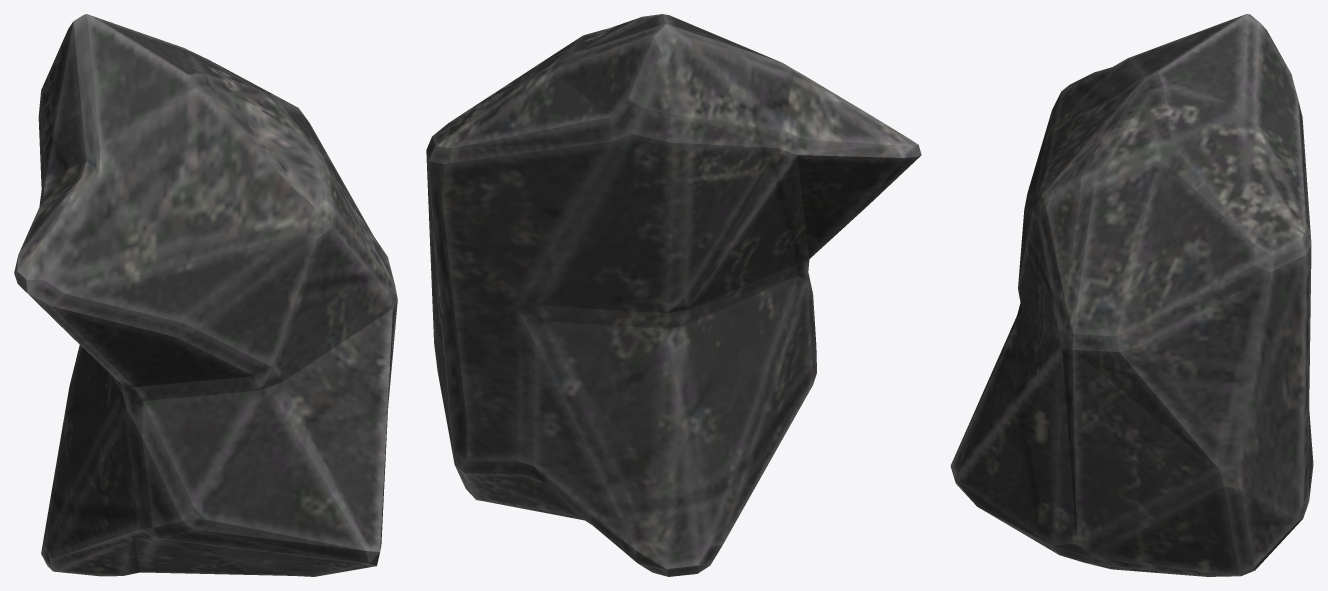
File: CoalCrushed.glb
3 views of the same model, side by side, from view 1: azimuth 30°, elevation 25°; view 2: azimuth 150°, elevation 25°; view 3: azimuth 270°, elevation 25° (orthographic). The views are drawn at different scales.
Parts seen in each view (by area): view 1: CoalCrushed; view 2: CoalCrushed; view 3: CoalCrushed.
Part boxes in pixels (x1,y1,x2,y2): CoalCrushed: (14, 14, 397, 576); CoalCrushed: (426, 14, 921, 576); CoalCrushed: (950, 14, 1313, 576).
Size of the model in its own units: 0.1419 by 0.184 by 0.1219.
1 material, 1 textured.
